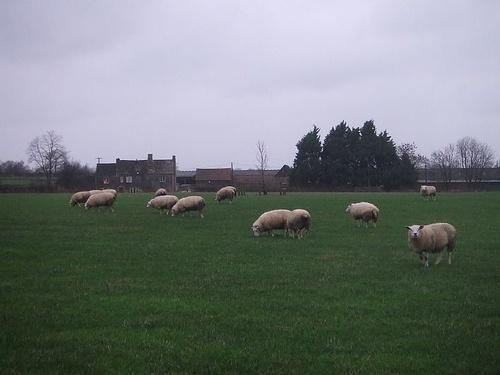sheep: (406, 224, 457, 267), (253, 209, 292, 238), (345, 202, 382, 229), (172, 195, 207, 220), (287, 209, 312, 241), (147, 195, 179, 215), (86, 195, 116, 214), (419, 184, 438, 202), (71, 192, 91, 207), (217, 189, 236, 204)
